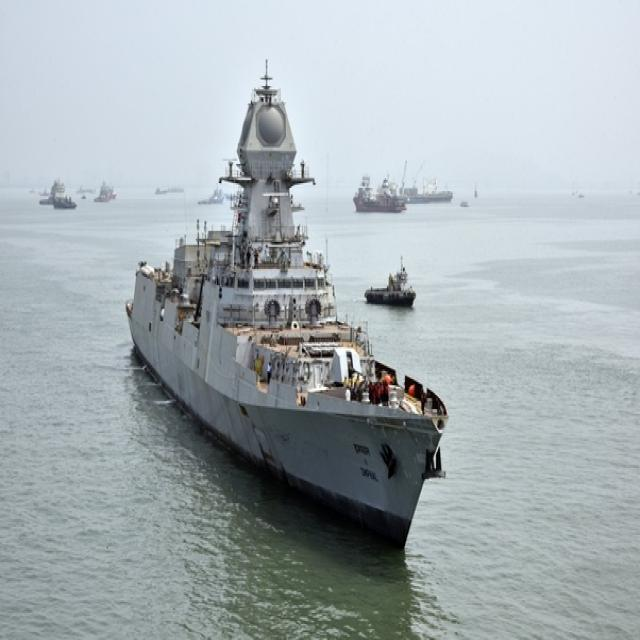Destroyer-Kolkata-Class-IND: (124, 52, 452, 570)
